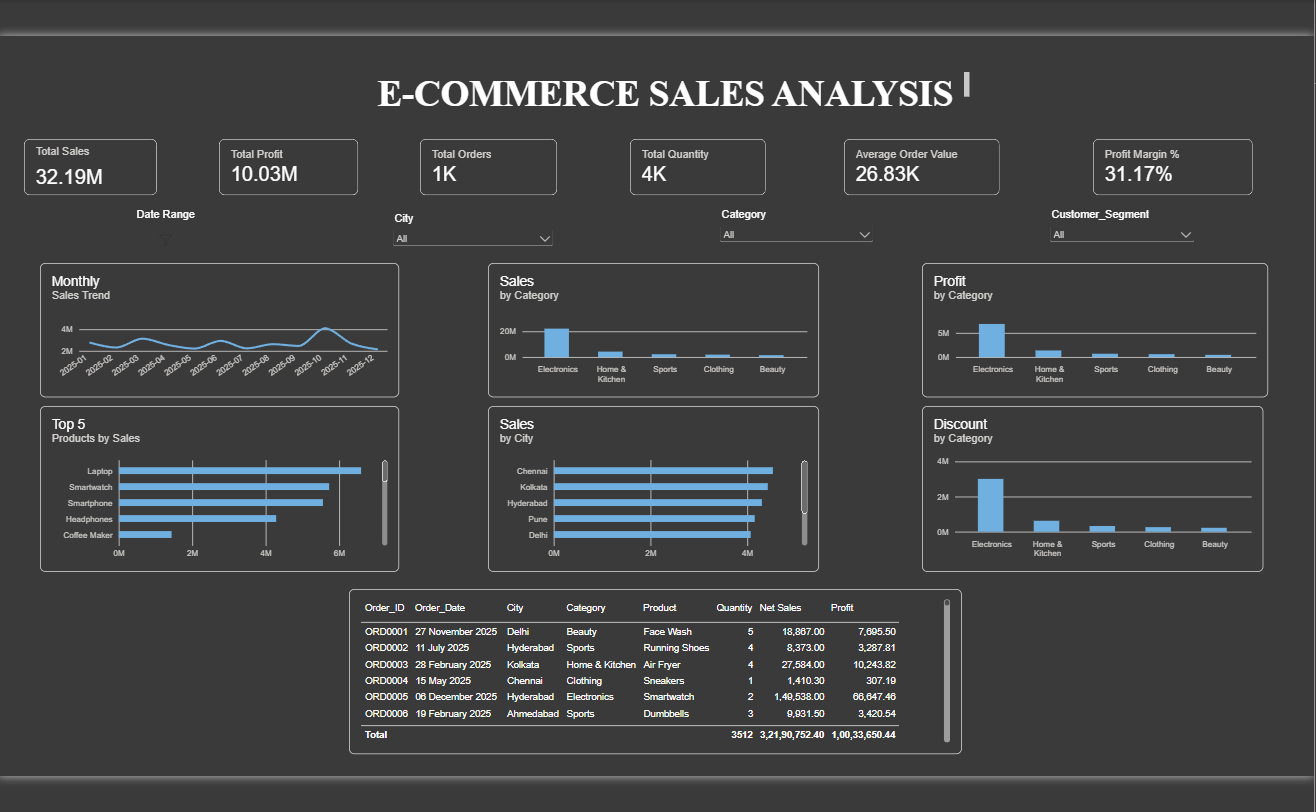

The page's visual inventory and layout, read from the dashboard file:
{"tool":"powerbi","page":{"name":"Sales Overview","canvas":[1920,1080],"ordinal":0},"visuals":[{"type":"cardVisual","fields":{"Data":["DateTable.Total Sales"]},"box":[38.3,150.2,194.4,82.5],"z":0},{"type":"cardVisual","fields":{"Data":["DateTable.Total Profit"]},"box":[322.9,150.2,203.2,82.5],"z":1000},{"type":"cardVisual","fields":{"Data":["DateTable.Total Orders Display"]},"box":[615.5,150.2,200.2,82.5],"z":2000},{"type":"cardVisual","fields":{"Data":["DateTable.Total Quantity"]},"box":[921.7,150.2,198.3,82.5],"z":3000},{"type":"cardVisual","fields":{"Data":["DateTable.Average Order Value"]},"box":[1233.9,150.2,227.7,82.5],"z":4000},{"type":"cardVisual","fields":{"Data":["DateTable.Profit Margin %"]},"box":[1597.1,150.2,233.6,82.5],"z":5000},{"type":"lineChart","title":"Monthly","fields":{"Category":["DateTable.Year Month"],"Y":["DateTable.Total Sales"]},"box":[60.9,331.8,524.2,196.3],"z":6000},{"type":"columnChart","title":"Sales","fields":{"Category":["ecommerce_sales_cleaned.Category"],"Y":["DateTable.Total Sales"]},"box":[715.6,331.8,482.9,196.3],"z":7000},{"type":"clusteredColumnChart","title":"Profit","fields":{"Category":["ecommerce_sales_cleaned.Category"],"Y":["DateTable.Total Profit"]},"box":[1347.7,331.8,504.5,196.3],"z":8000},{"type":"clusteredBarChart","title":"Top 5","fields":{"Category":["ecommerce_sales_cleaned.Product"],"Y":["DateTable.Total Sales"]},"box":[60.9,539.9,524.2,242.5],"z":9000},{"type":"clusteredBarChart","title":"Sales","fields":{"Category":["ecommerce_sales_cleaned.City"],"Y":["DateTable.Total Sales"]},"box":[715.6,539.9,482.9,242.5],"z":10000},{"type":"clusteredColumnChart","title":"Discount","fields":{"Category":["ecommerce_sales_cleaned.Category"],"Y":["DateTable.Total Discount"]},"box":[1347.7,539.9,497.7,242.5],"z":11000},{"type":"tableEx","fields":{"Values":["ecommerce_sales_cleaned.Order_ID","ecommerce_sales_cleaned.Order_Date","ecommerce_sales_cleaned.City","ecommerce_sales_cleaned.Category","ecommerce_sales_cleaned.Product","Sum(ecommerce_sales_cleaned.Quantity)","Sum(ecommerce_sales_cleaned.Net_Sales)","Sum(ecommerce_sales_cleaned.Profit)"]},"box":[512.4,806.9,894.2,241.5],"z":12000},{"type":"actionButton","box":[0,0,100,40],"z":13000},{"type":"textbox","box":[538.4,39.4,868.1,99.2],"z":14000},{"type":"slicer","title":"Date Range","fields":{"Values":["DateTable.Date"]},"box":[135.5,251.3,217.9,60.9],"z":14001},{"type":"slicer","fields":{"Values":["ecommerce_sales_cleaned.City"]},"box":[570.3,256.2,245.4,59.9],"z":14002},{"type":"slicer","fields":{"Values":["ecommerce_sales_cleaned.Category"]},"box":[1047.4,251.3,234.6,64.8],"z":14003},{"type":"slicer","fields":{"Values":["ecommerce_sales_cleaned.Customer_Segment"]},"box":[1528.3,251.3,221.8,64.8],"z":14004}]}

Visuals, with their boxes on the page's 1920x1080 design canvas (x1, y1, x2, y2). These are canvas units, not pixel positions in the 1316x812 screenshot, which may show the page scaled, cropped or inside an application window:
cardVisual - DateTable.Total Sales: crop(38, 150, 233, 233)
cardVisual - DateTable.Total Profit: crop(323, 150, 526, 233)
cardVisual - DateTable.Total Orders Display: crop(616, 150, 816, 233)
cardVisual - DateTable.Total Quantity: crop(922, 150, 1120, 233)
cardVisual - DateTable.Average Order Value: crop(1234, 150, 1462, 233)
cardVisual - DateTable.Profit Margin %: crop(1597, 150, 1831, 233)
"Monthly" lineChart: crop(61, 332, 585, 528)
"Sales" columnChart: crop(716, 332, 1198, 528)
"Profit" clusteredColumnChart: crop(1348, 332, 1852, 528)
"Top 5" clusteredBarChart: crop(61, 540, 585, 782)
"Sales" clusteredBarChart: crop(716, 540, 1198, 782)
"Discount" clusteredColumnChart: crop(1348, 540, 1845, 782)
tableEx - ecommerce_sales_cleaned.Order_ID x ecommerce_sales_cleaned.Order_Date: crop(512, 807, 1407, 1048)
actionButton: crop(0, 0, 100, 40)
textbox: crop(538, 39, 1406, 139)
"Date Range" slicer: crop(136, 251, 353, 312)
slicer - ecommerce_sales_cleaned.City: crop(570, 256, 816, 316)
slicer - ecommerce_sales_cleaned.Category: crop(1047, 251, 1282, 316)
slicer - ecommerce_sales_cleaned.Customer_Segment: crop(1528, 251, 1750, 316)
